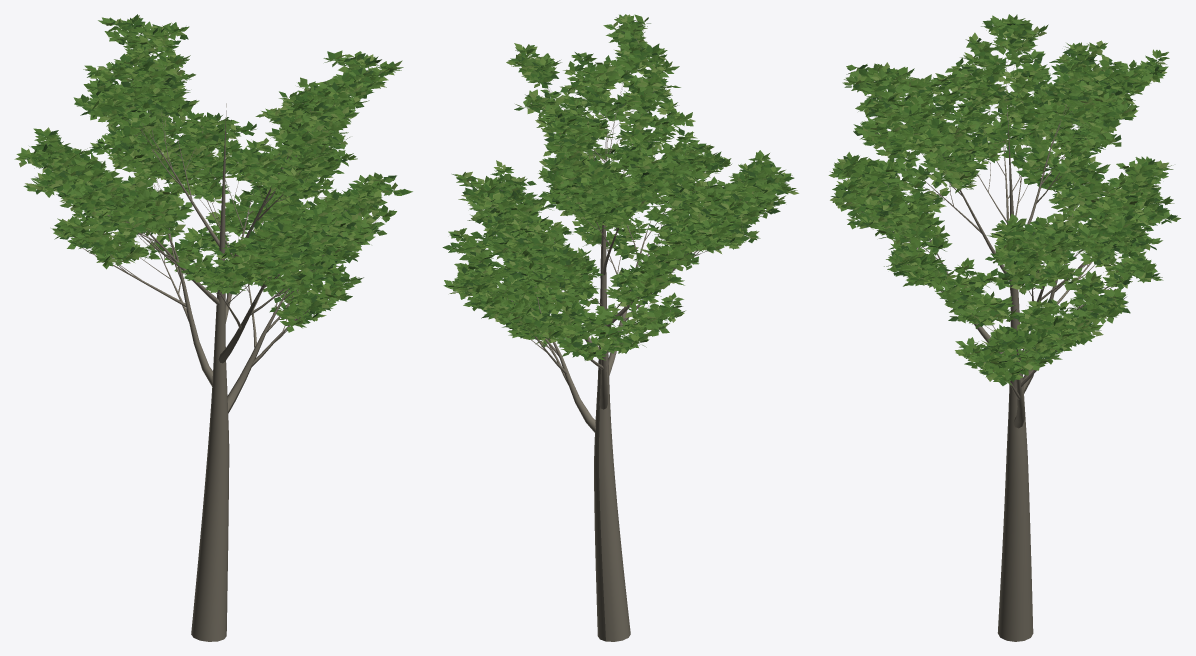
The model's file is tree_10.glb.
The picture shows the model from 3 angles, left to right: view 1: azimuth 30°, elevation 25°; view 2: azimuth 150°, elevation 25°; view 3: azimuth 270°, elevation 25°; orthographic projection. The views are drawn at different scales.
Parts seen in each view (by area): view 1: Tree_10_leaf_clusters, Tree_10_trunk_branches; view 2: Tree_10_leaf_clusters, Tree_10_trunk_branches; view 3: Tree_10_leaf_clusters, Tree_10_trunk_branches.
Part boxes in pixels (bbox=[...]): Tree_10_leaf_clusters: bbox=[14, 14, 412, 332]; Tree_10_trunk_branches: bbox=[38, 35, 383, 641]; Tree_10_leaf_clusters: bbox=[442, 14, 798, 360]; Tree_10_trunk_branches: bbox=[458, 23, 777, 641]; Tree_10_leaf_clusters: bbox=[828, 14, 1180, 385]; Tree_10_trunk_branches: bbox=[842, 26, 1163, 641].
Bounding box in the file's own units: 5.53 × 8.62 × 4.64.
